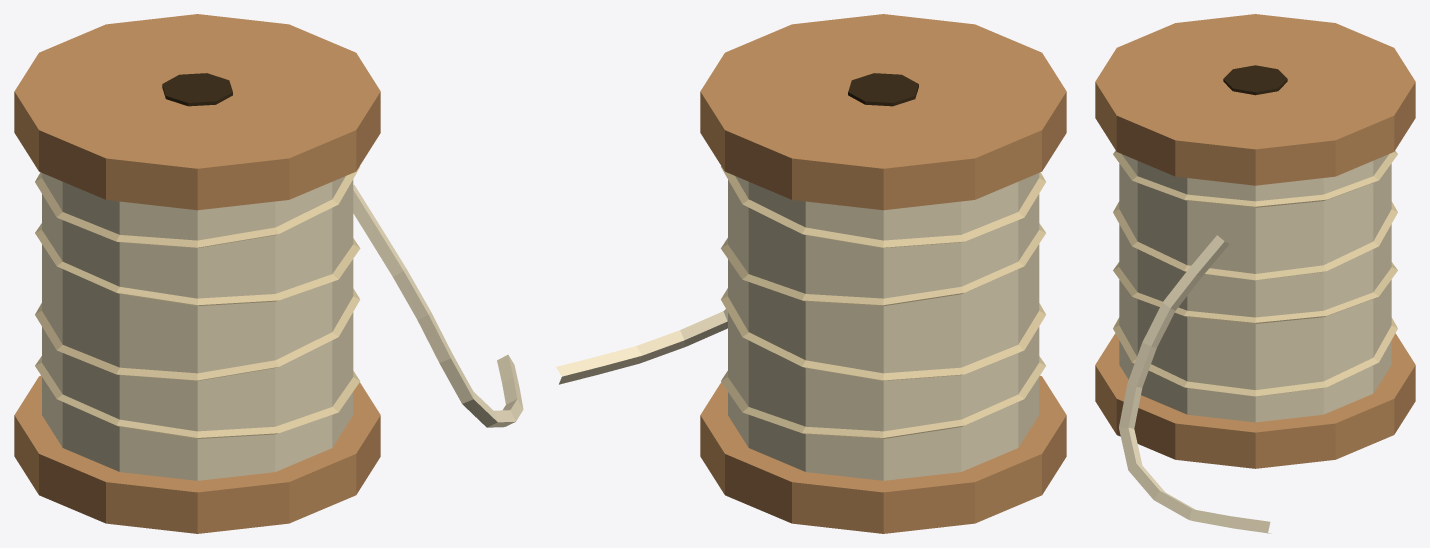
The model's file is string-spool.glb.
3 renders of one model, left to right at view 1: azimuth 30°, elevation 25°; view 2: azimuth 150°, elevation 25°; view 3: azimuth 270°, elevation 25°, orthographic. The views are drawn at different scales.
Visible parts, largest first — view 1: string-spool; view 2: string-spool; view 3: string-spool.
Boxes of the visible parts, x1,y1,x2,y2 form: string-spool: [14, 14, 523, 533]; string-spool: [556, 14, 1066, 533]; string-spool: [1095, 14, 1415, 533].
Bounding box in the file's own units: 0.3043 × 0.2226 × 0.2.
